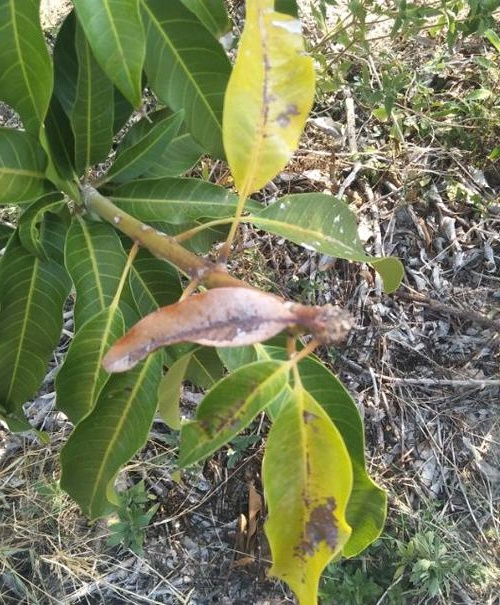Anthracnose: (133, 244, 346, 377), (144, 404, 255, 502), (269, 442, 362, 552), (232, 28, 312, 138)
